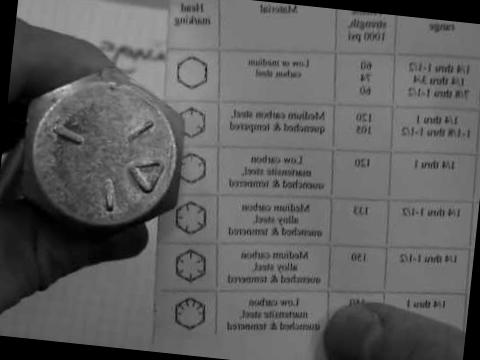screw: (15, 65, 190, 241)
